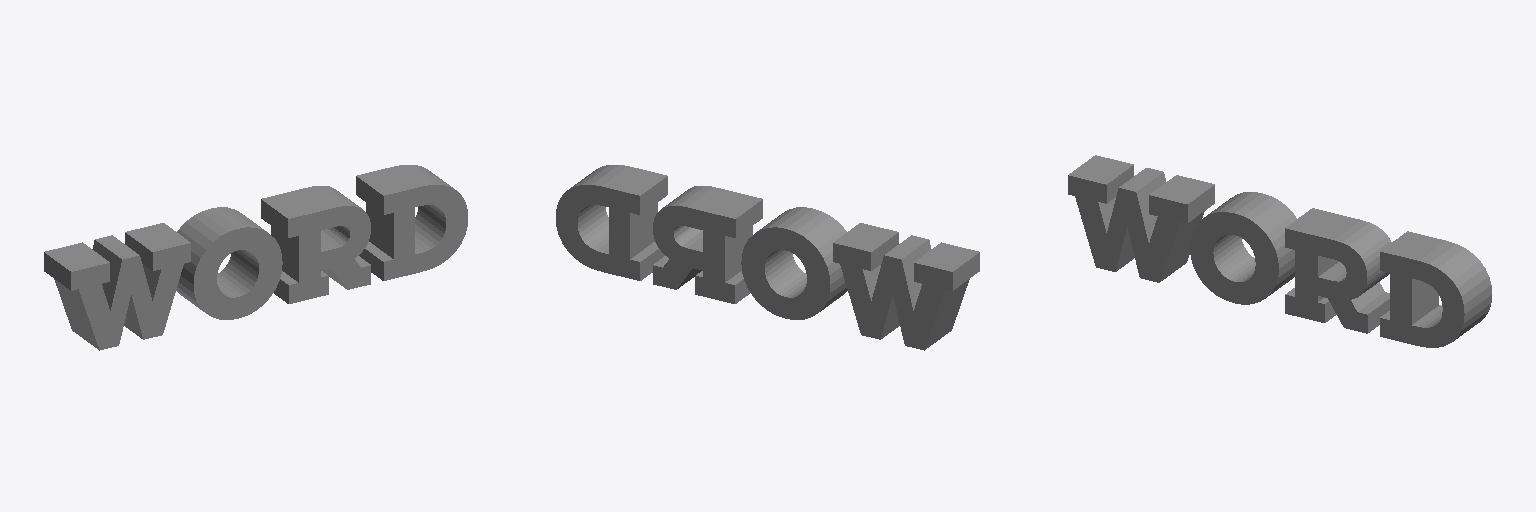
The model's file is word.obj.
3 renders of one model, left to right at view 1: azimuth 30°, elevation 25°; view 2: azimuth 150°, elevation 25°; view 3: azimuth 330°, elevation 25°, orthographic.
Visible parts, largest first — view 1: object_1; view 2: object_1; view 3: object_1.
Part boxes in pixels (x1,y1,x2,y2): object_1: (44, 165, 467, 350); object_1: (556, 165, 979, 350); object_1: (1068, 155, 1491, 347).
Size of the model in its own units: 16.57 by 3.6 by 2.